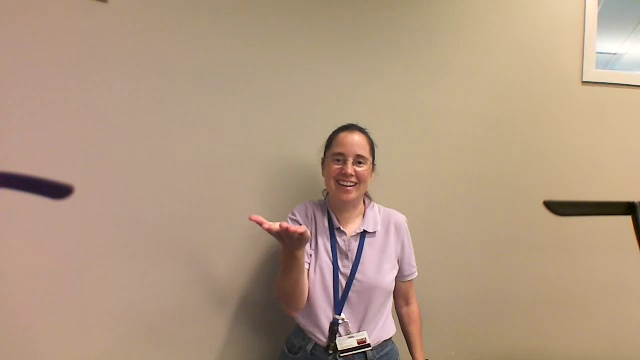land: (242, 208, 322, 252)
